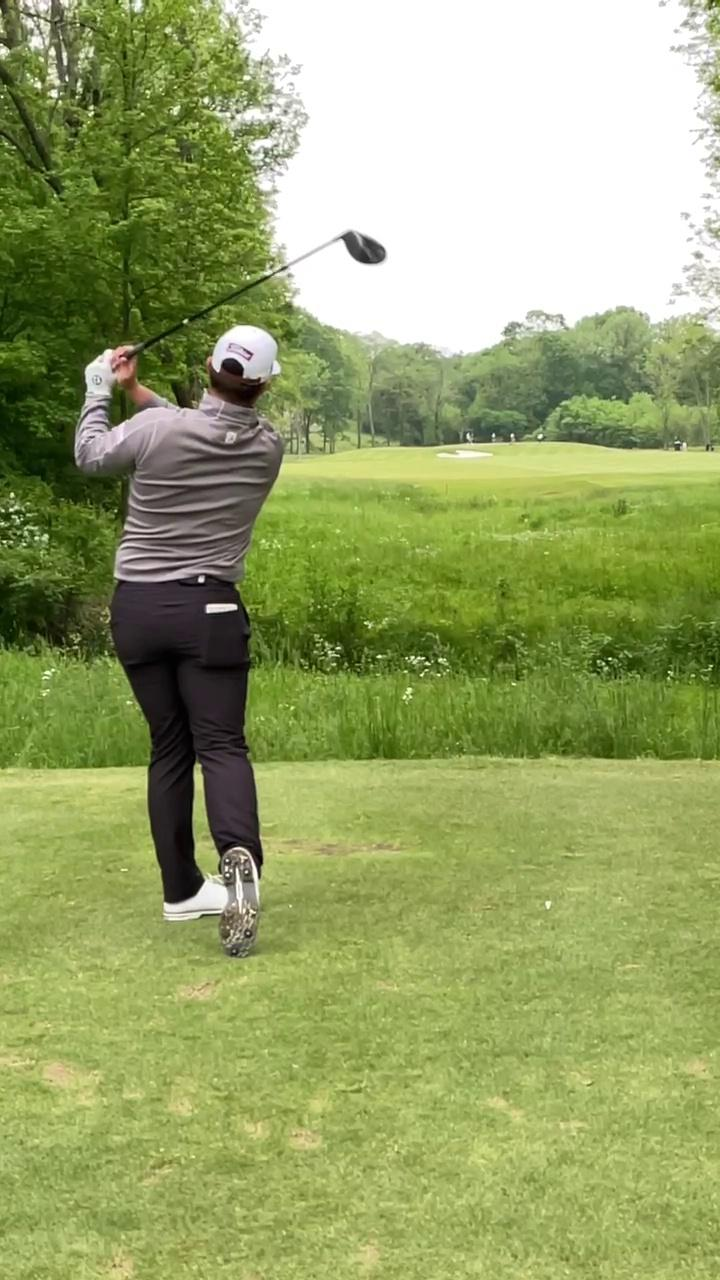ClubHead: (334, 224, 390, 275)
